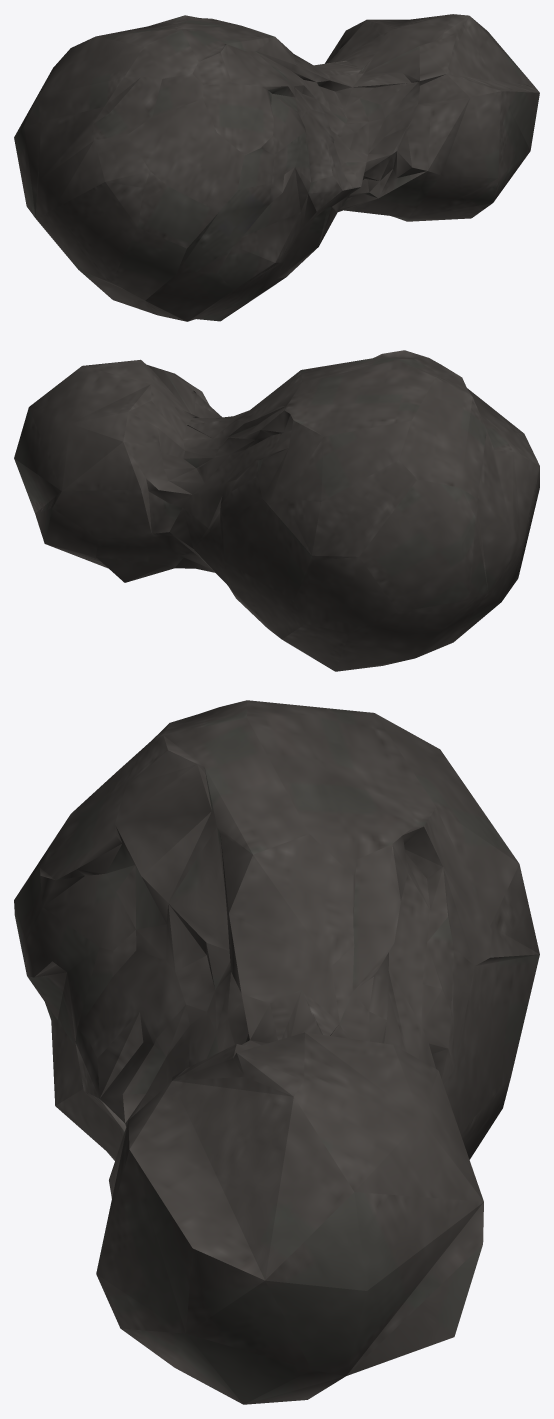
Rendered from carbonaceous_asteroid_05_bilobed_lod2.glb.
3 views of the same model, one above another, from view 1: azimuth 30°, elevation 25°; view 2: azimuth 150°, elevation 25°; view 3: azimuth 270°, elevation 25° (orthographic). The views are drawn at different scales.
Parts seen in each view (by area): view 1: mesh_node; view 2: mesh_node; view 3: mesh_node.
Part boxes in pixels (bbox=[...]): mesh_node: bbox=[14, 14, 539, 321]; mesh_node: bbox=[14, 350, 539, 671]; mesh_node: bbox=[14, 700, 539, 1404].
Bounding box in the file's own units: 1.99 × 1.16 × 1.07.
Materials: 1 (1 with a texture image).
